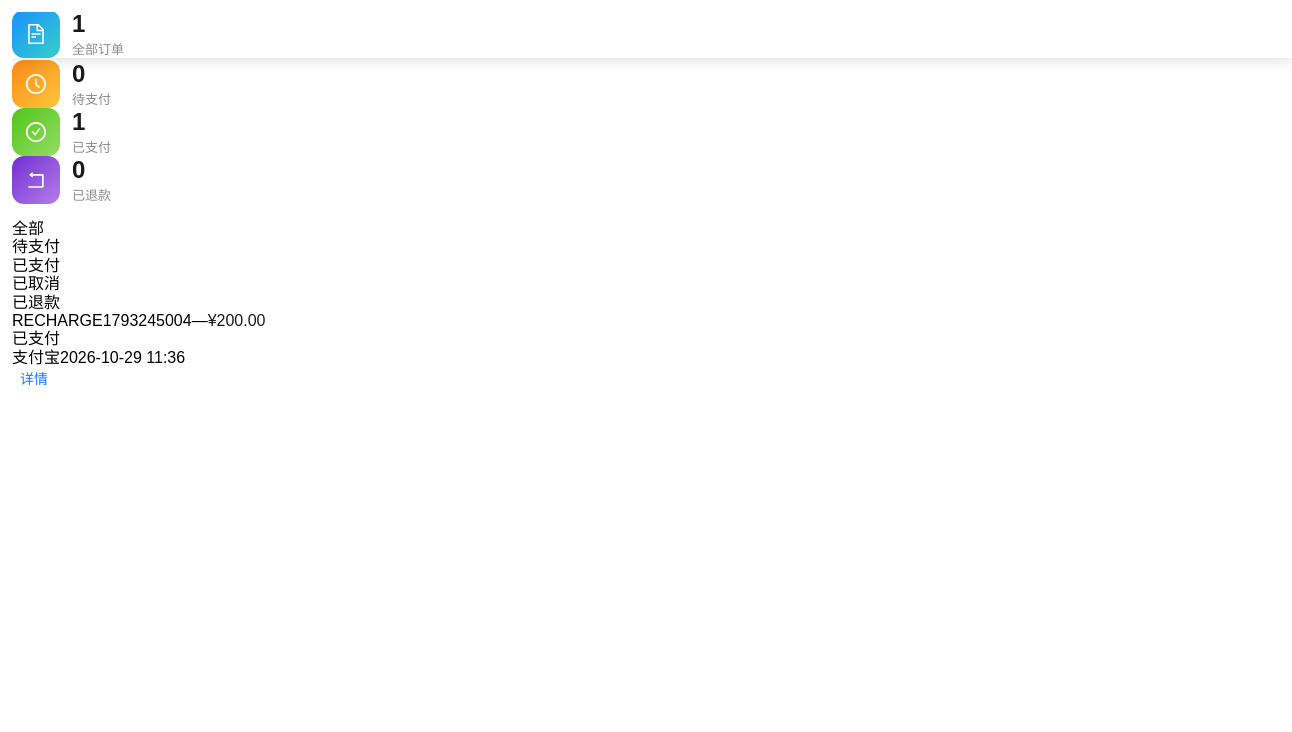
Test: 详情弹窗那几格念的是后端真回的键 › 将来后端真带上商品名，这一格照旧念出来
The width and height of the screenshot is (1292, 732).
Click the button "详情" at (34, 379), box [12,367,56,391]
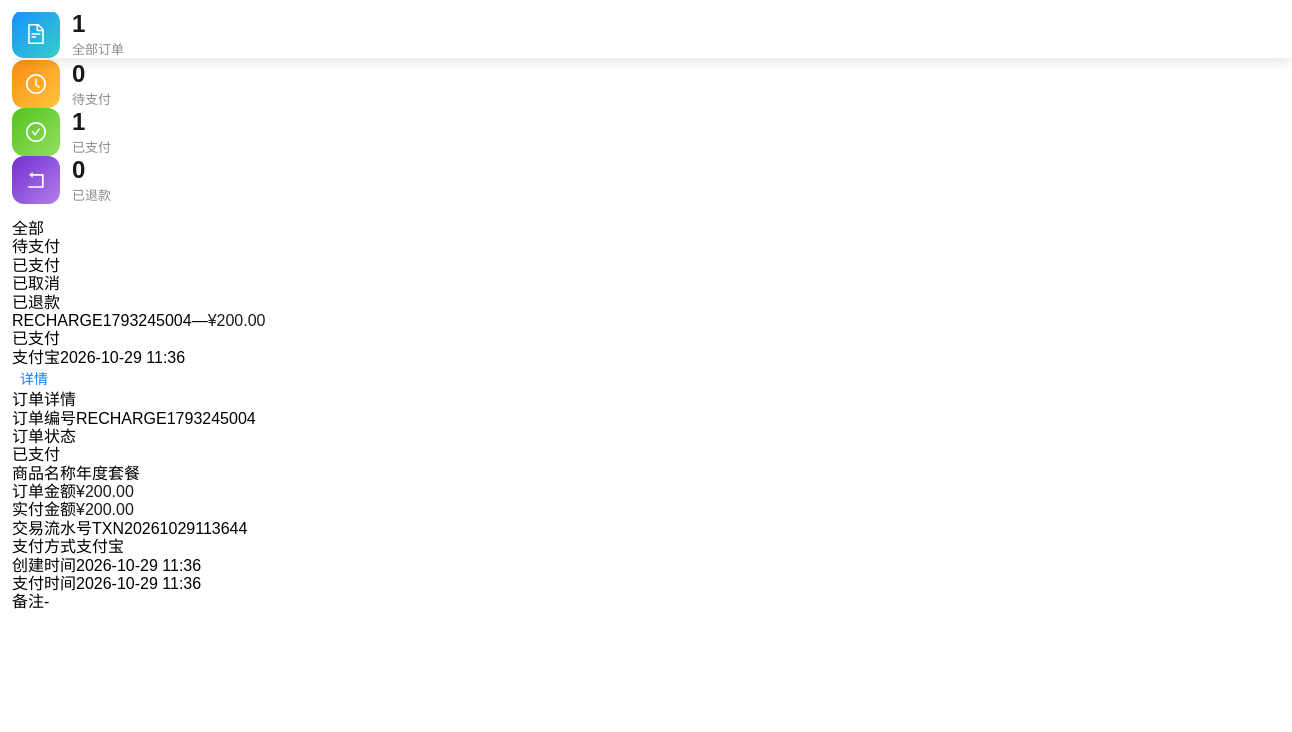
Now the text with class "desc-value" reads "年度套餐", box [76,465,140,482]
